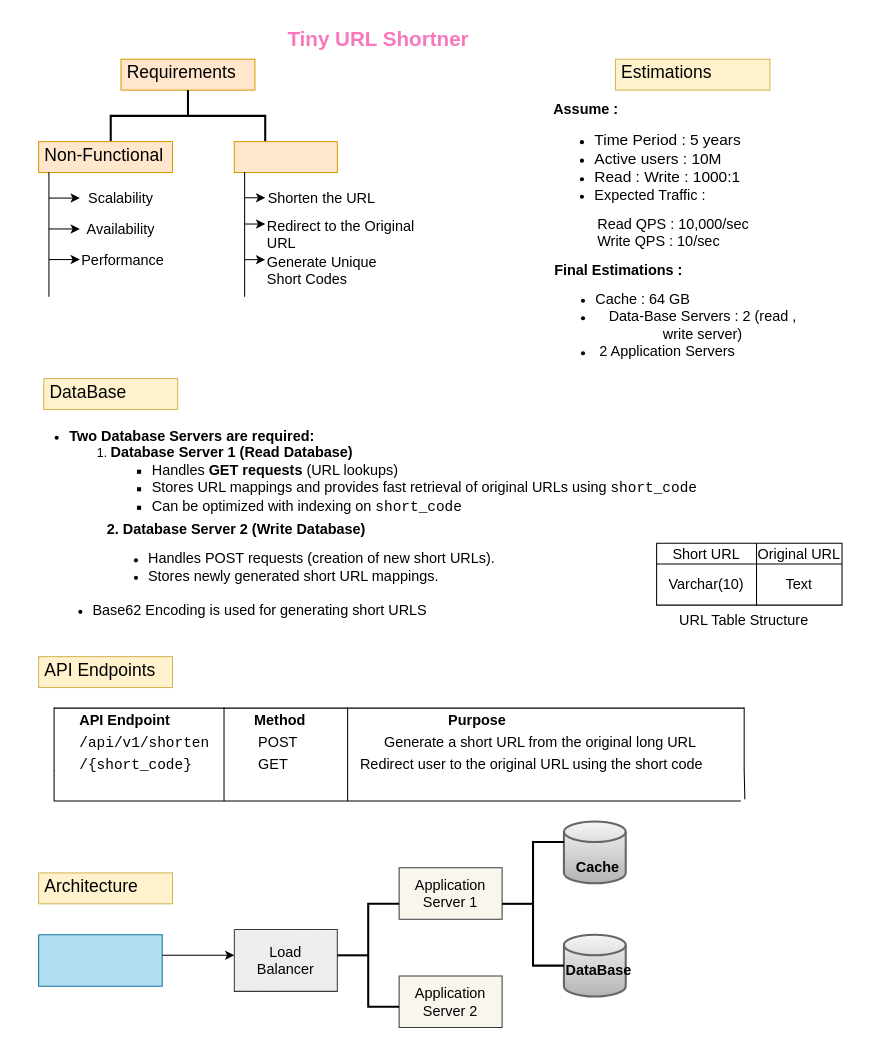
The diagram is 886 pixels wide and 1045 high, and some of its shapes have lost their labels. Here are the shapes that lost their labels. From the top down, the centre of each, then its label:
point 285,157: Functional
point 100,960: Users
